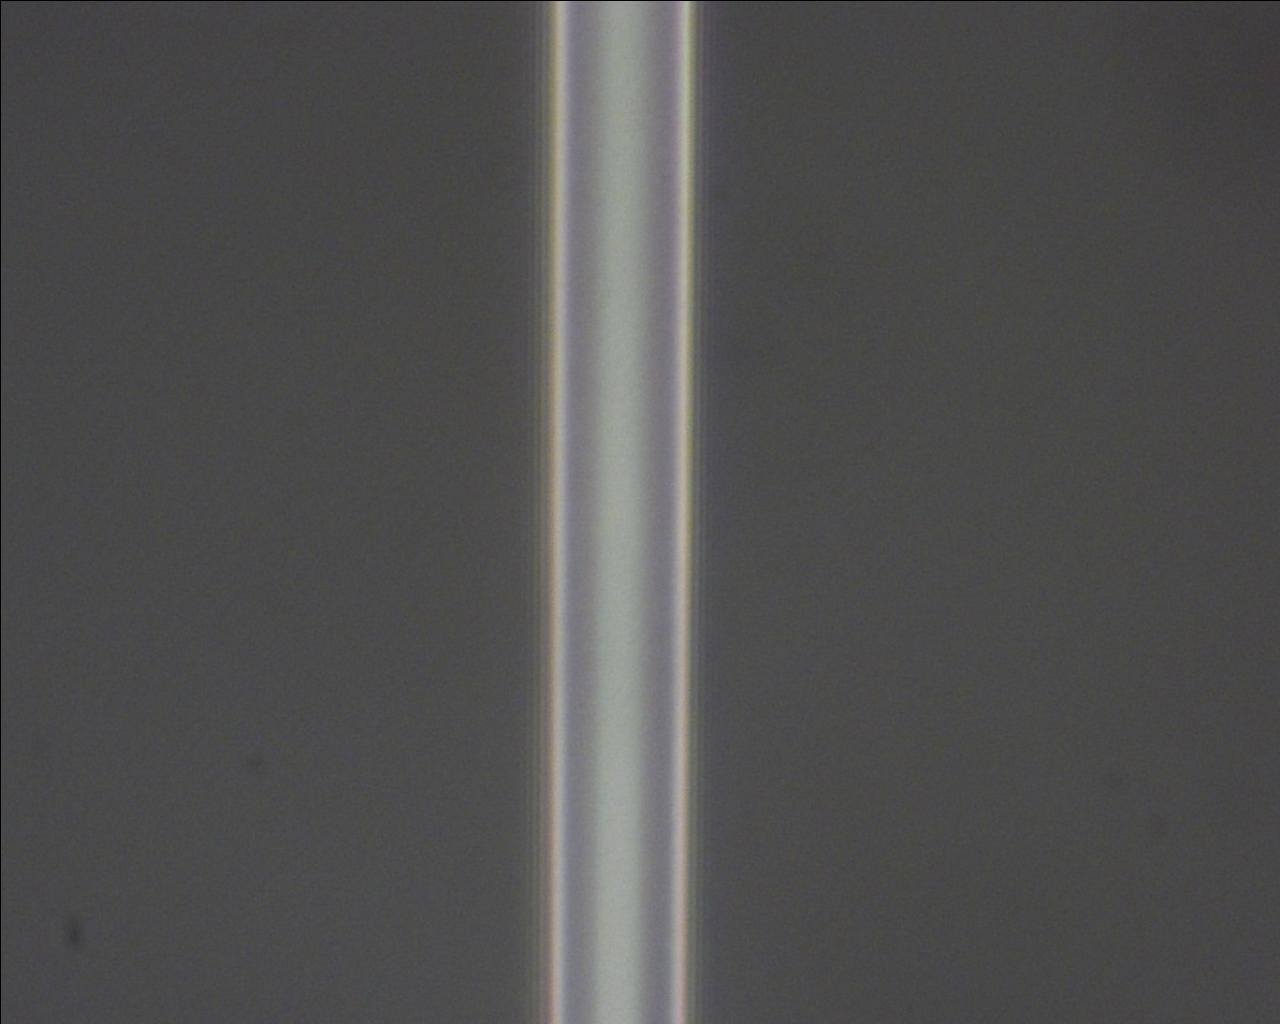fiber: (0, 65, 1280, 984)
